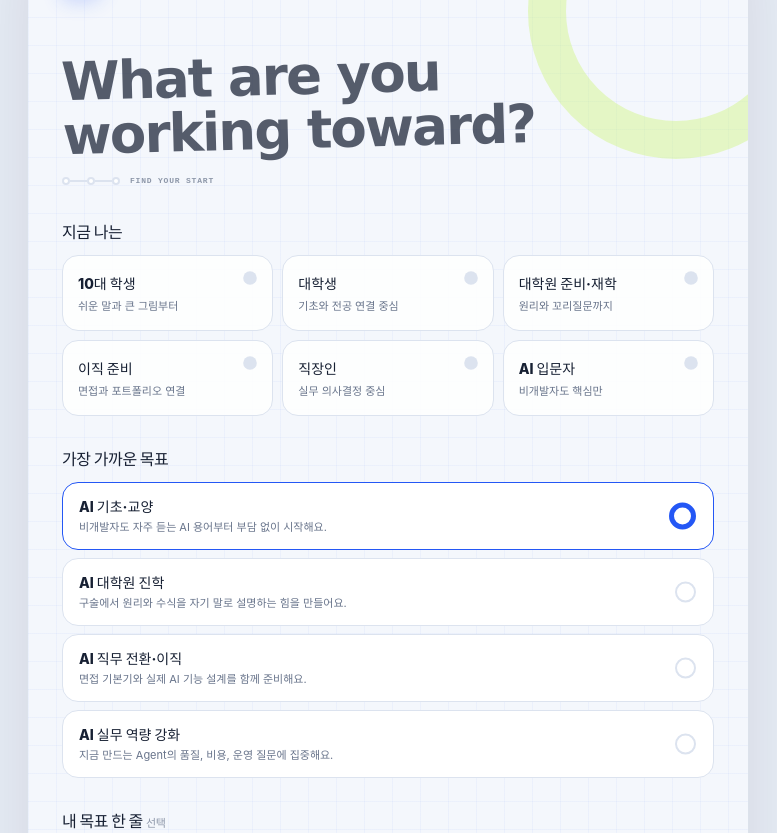
OnboardingScreen › 기기 저장이 실패하면 화면을 유지하고 다시 시도할 수 있게 알린다
Step 1. Click the button "대학원 준비·재학 원리와 꼬리질문까지" → (608, 293), box [503, 255, 714, 331]
(page scrolled)
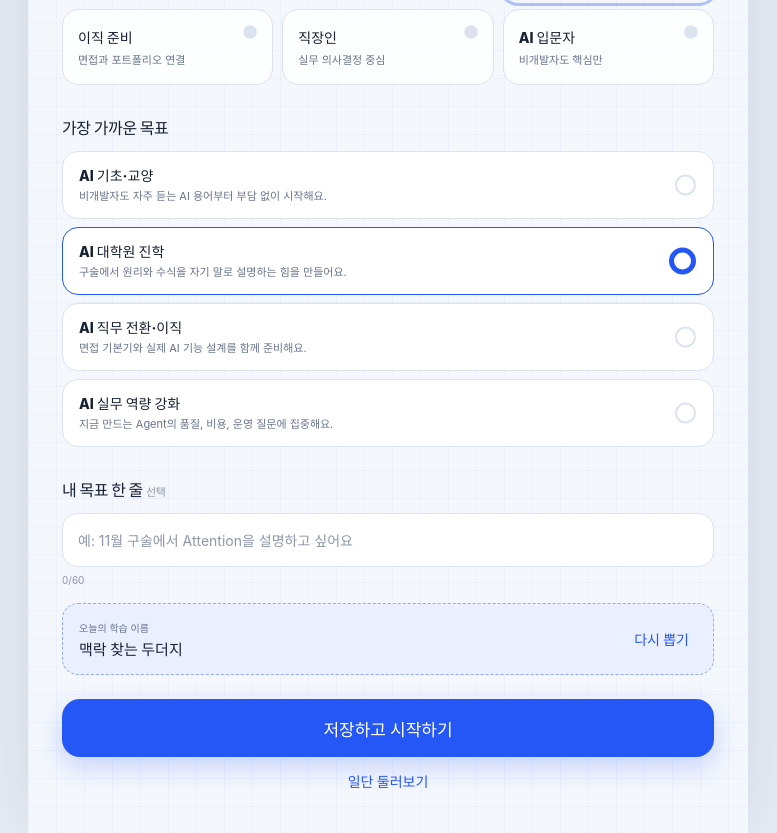
Step 2. Click the button "저장하고 시작하기" → (388, 728), box [62, 699, 714, 757]
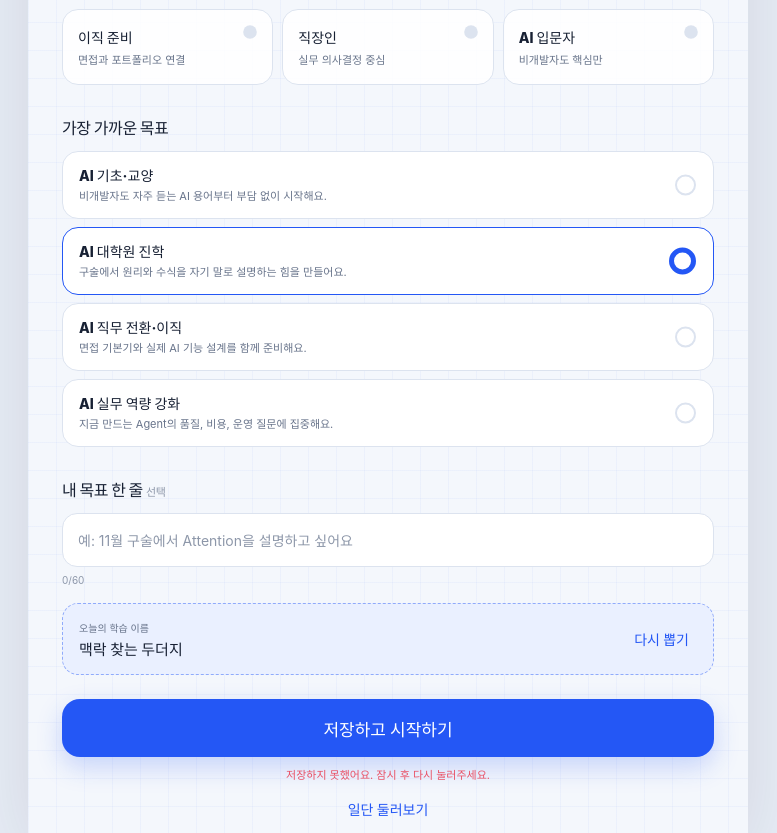
Result: the button "저장하고 시작하기" is enabled at [62, 699, 714, 757]
Result: the message shows "저장하지 못했어요" at [286, 768, 490, 782]
